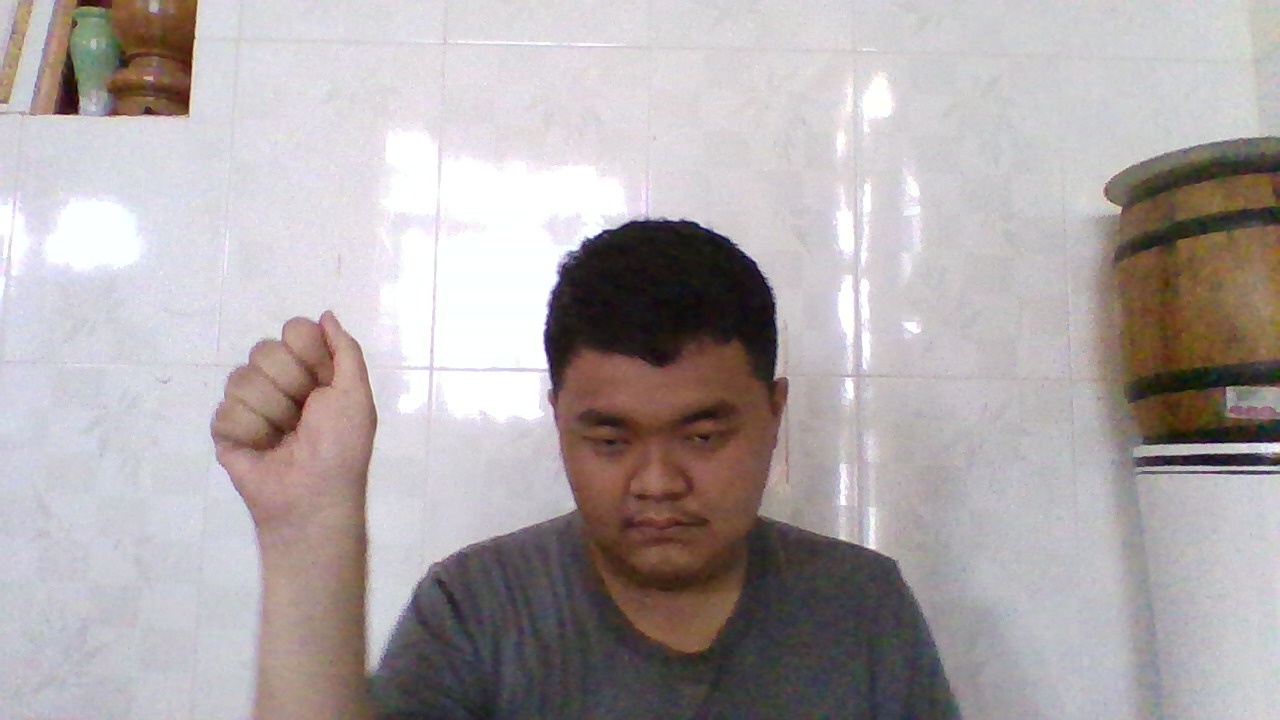A: (211, 301, 377, 519)
